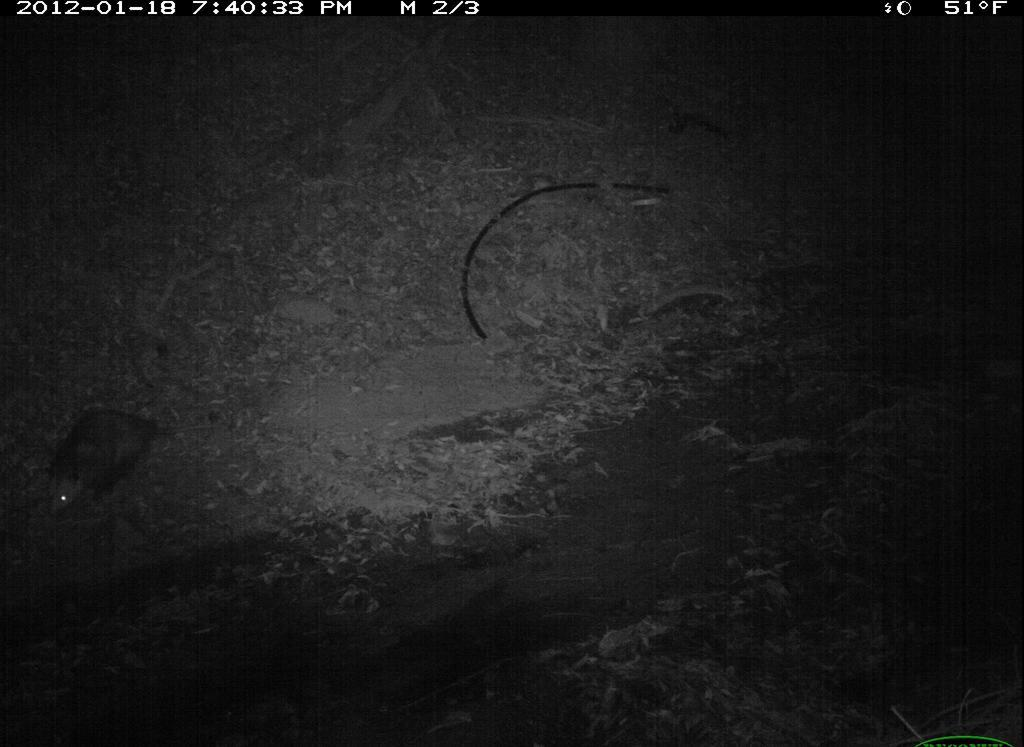opossum: (38, 401, 190, 524)
